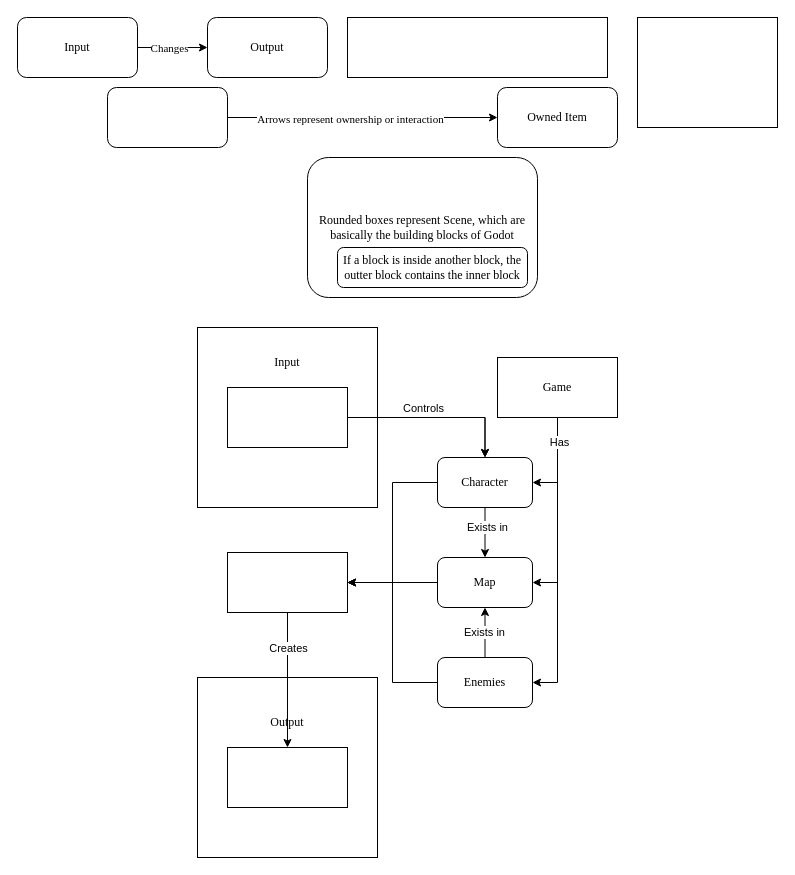
Some shapes in this 795 by 875 pixel diagram are drawn without their labels. Here are the shapes that lost their labels. From the top down, the centre of each, then its label:
(x=477, y=47): Untitled Project Design Doc D1
(x=707, y=72): Square boxes represent concepts or ideas
(x=167, y=117): Owner
(x=287, y=417): User
(x=287, y=582): Gameplay
(x=287, y=777): Fun!
